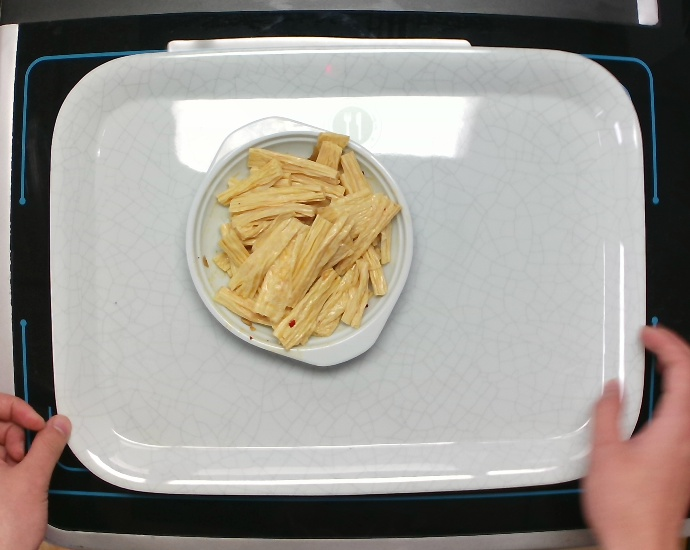JYsf-Shuang_Er_Pan: (181, 109, 421, 372)
